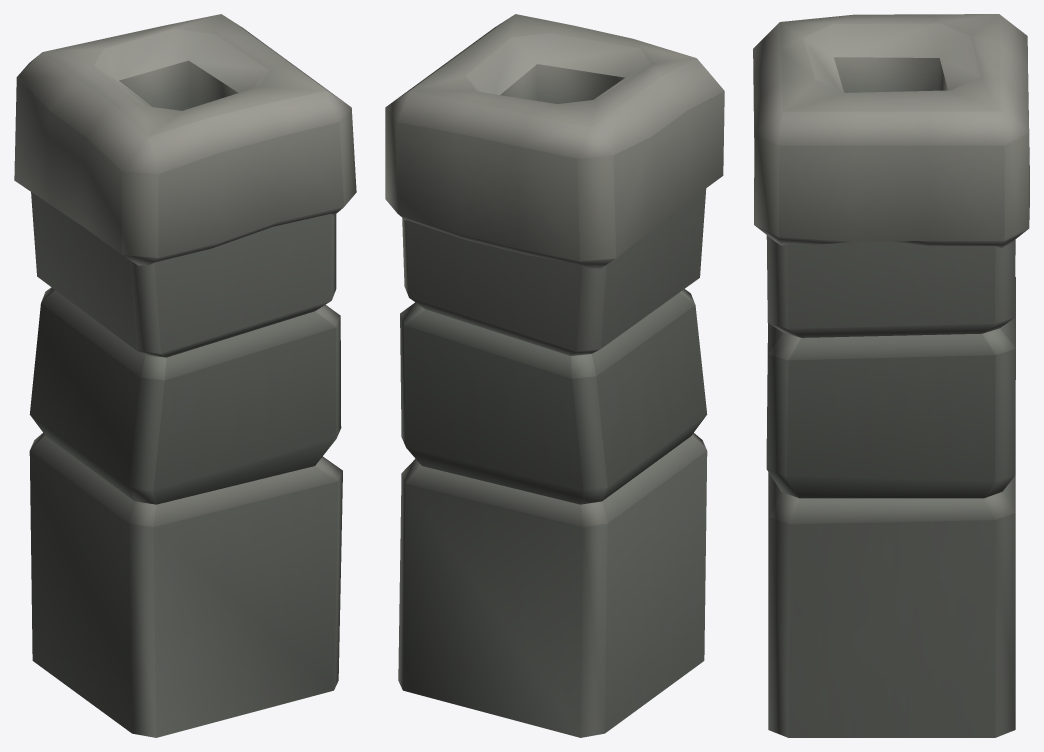
Rendered from house_chimney.fbx.
The picture shows the model from 3 angles, left to right: view 1: azimuth 30°, elevation 25°; view 2: azimuth 150°, elevation 25°; view 3: azimuth 270°, elevation 25°; orthographic projection. The views are drawn at different scales.
Visible parts, largest first — view 1: house_chimney; view 2: house_chimney; view 3: house_chimney.
Part boxes in pixels (left/top/right/bottom): house_chimney: left=14, top=14, right=356, bottom=737; house_chimney: left=385, top=14, right=724, bottom=737; house_chimney: left=753, top=14, right=1029, bottom=737.
Bounding box in the file's own units: 165 × 407 × 162.
